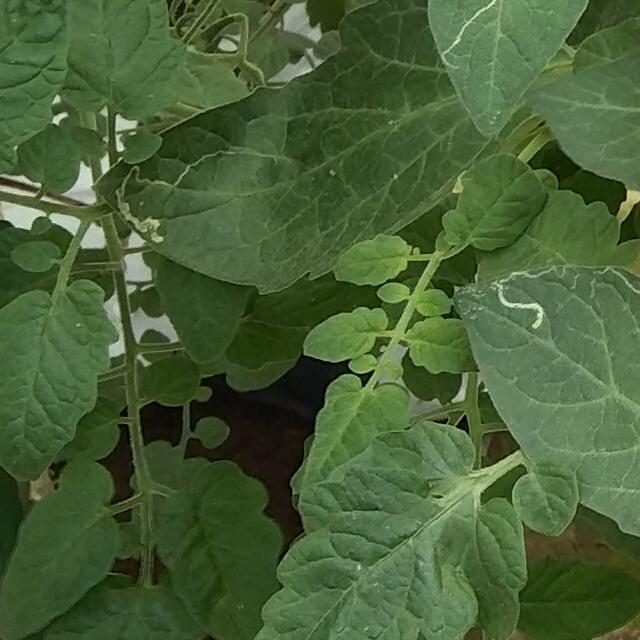Tomato healthy leaf: (0, 274, 122, 487), (0, 460, 128, 640)
Tomato target spot leaf: (85, 0, 495, 298), (446, 257, 640, 546), (421, 0, 590, 142)
